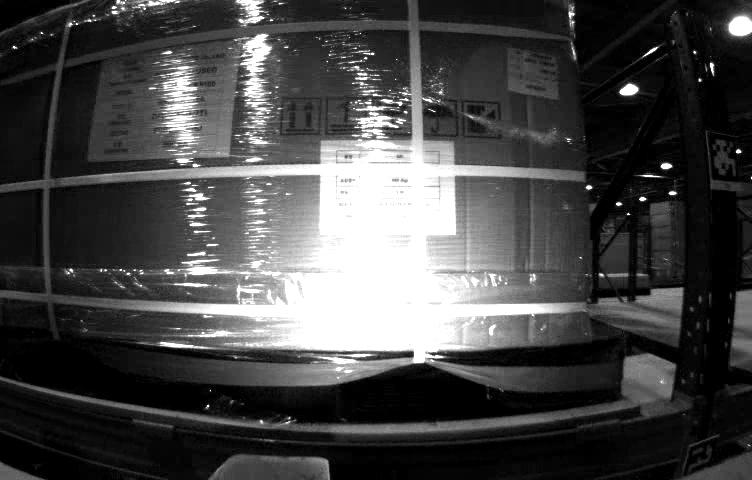True Barcode: (508, 49, 559, 98)
